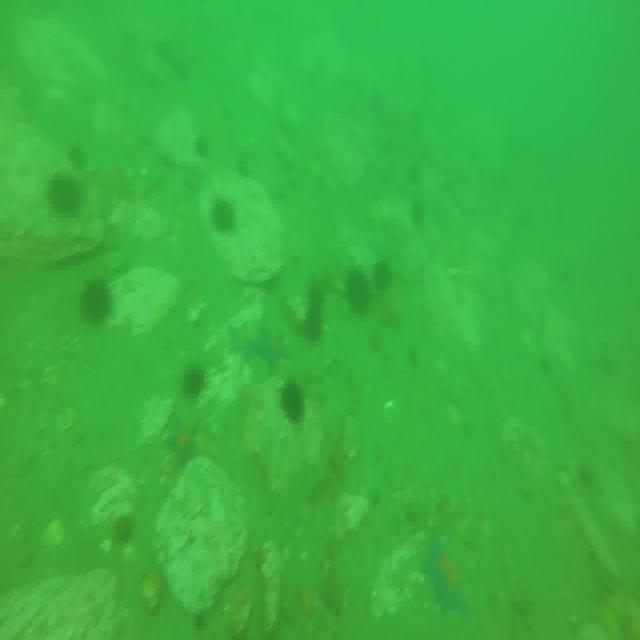echinus: (84, 274, 114, 325), (50, 168, 80, 214), (283, 380, 307, 431), (346, 265, 372, 312), (210, 200, 236, 236), (183, 364, 206, 398), (373, 262, 394, 291), (304, 313, 320, 342), (309, 281, 326, 308)
starfish: (425, 534, 470, 614), (256, 316, 290, 368), (169, 417, 202, 465), (229, 319, 256, 360), (112, 510, 133, 545)
